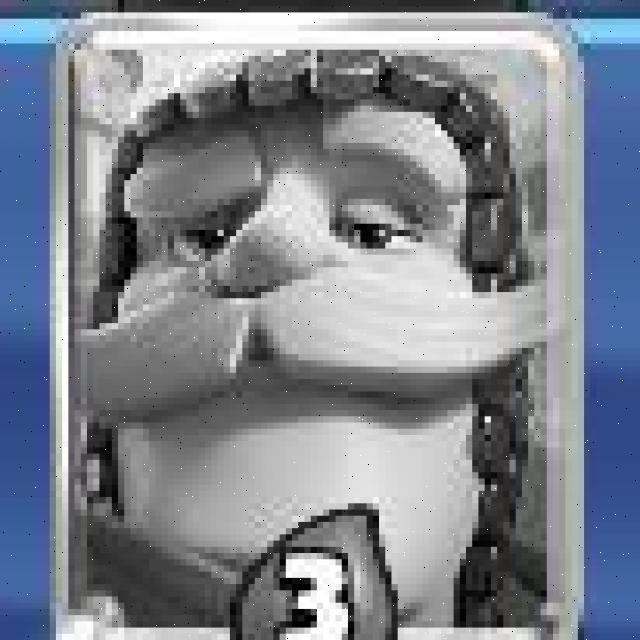Knight: (59, 16, 580, 640)
